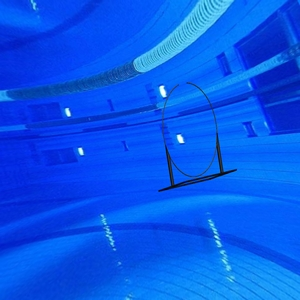circle: (158, 80, 239, 195)
